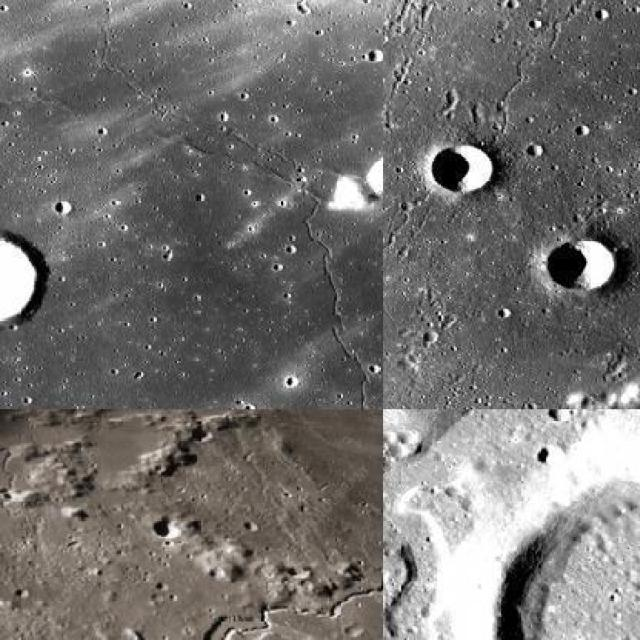rille: (97, 0, 381, 408), (0, 537, 382, 638), (383, 200, 532, 408)
